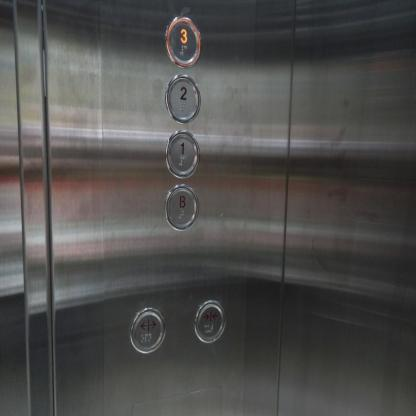1: (163, 124, 201, 178)
2: (165, 71, 202, 125)
3: (164, 14, 202, 68)
B: (164, 178, 199, 233)
close: (193, 296, 225, 343)
open: (130, 304, 165, 355)
